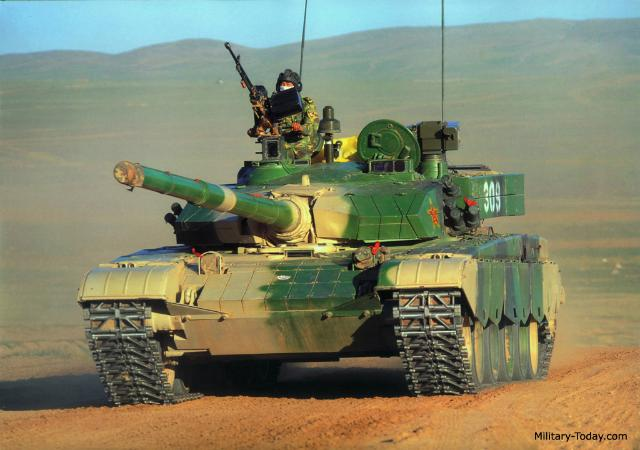other: (257, 69, 317, 133)
tank: (88, 123, 560, 382)
